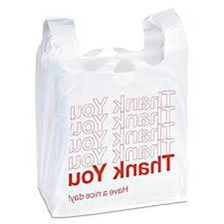plastic_bag: (21, 3, 203, 222)
